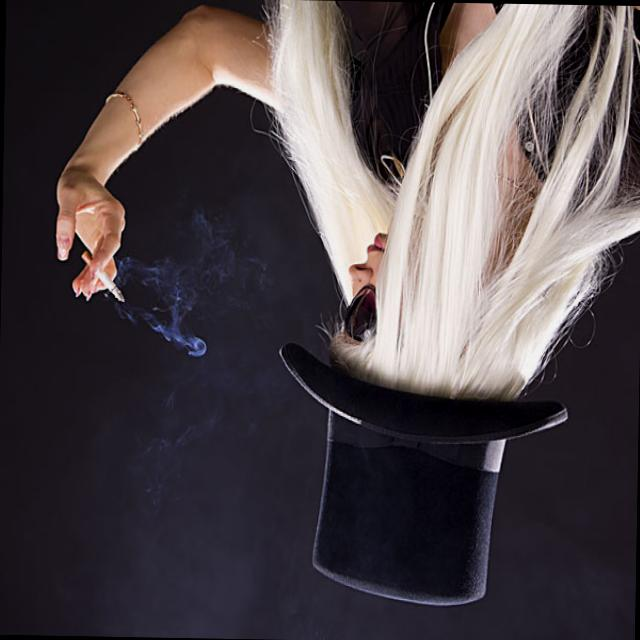smoke: (97, 268, 128, 310)
